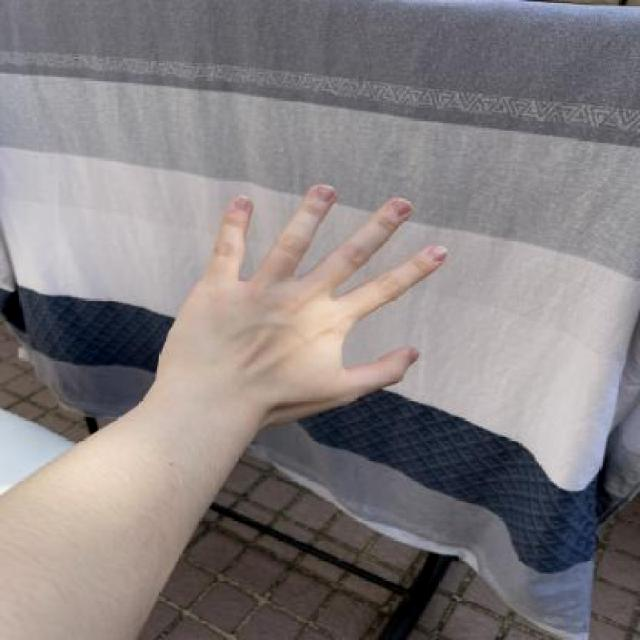no_glove: (133, 169, 455, 445)
